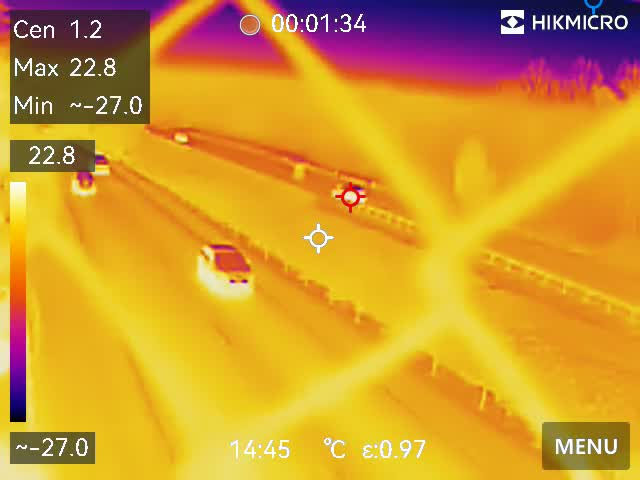vehicle: (195, 240, 254, 289), (329, 181, 369, 206), (86, 150, 117, 181), (72, 164, 96, 200)
